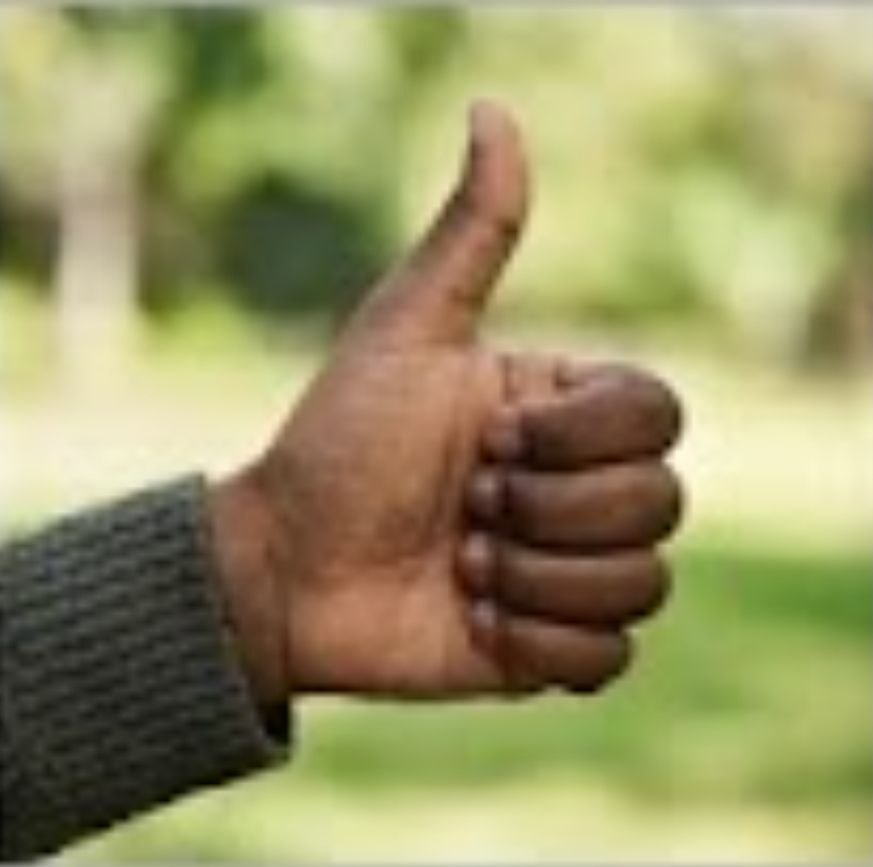Thumbs up: (238, 36, 712, 751)
